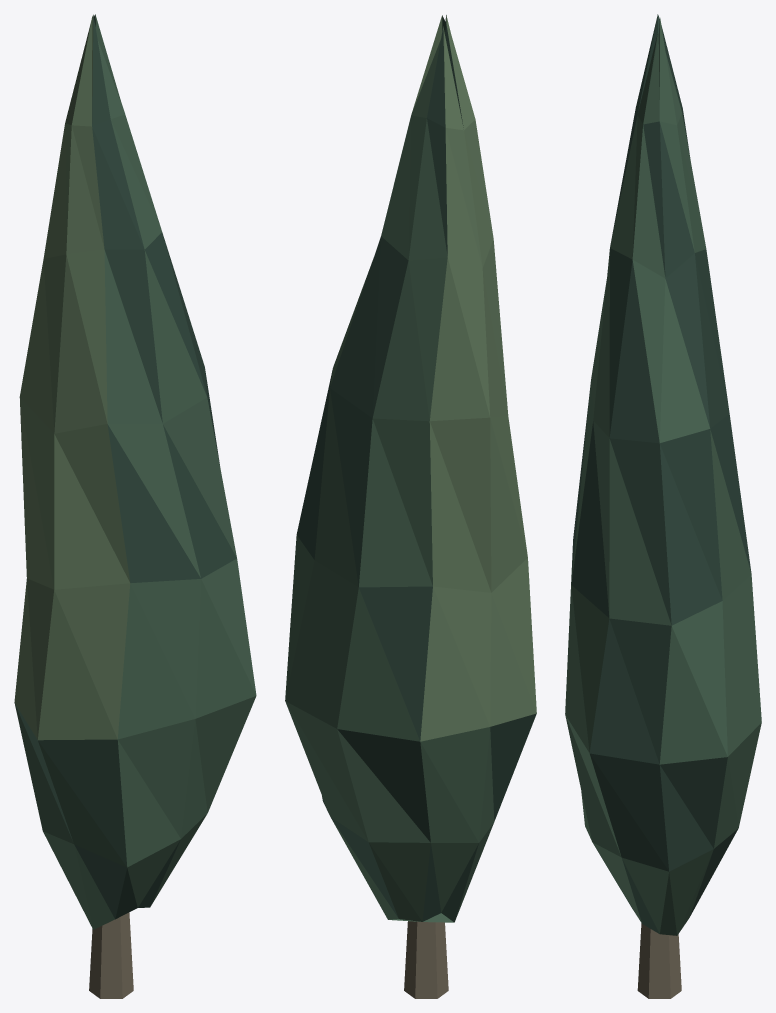
Rendered from citadel-cypress-v1.glb.
3 renders of one model, left to right at view 1: azimuth 30°, elevation 25°; view 2: azimuth 150°, elevation 25°; view 3: azimuth 270°, elevation 25°, orthographic.
Visible parts, largest first — view 1: Citadel cypress; view 2: Citadel cypress; view 3: Citadel cypress.
Part boxes in pixels (<box>): Citadel cypress: <box>14,14,256,998</box>; Citadel cypress: <box>285,15,536,998</box>; Citadel cypress: <box>565,14,761,998</box>.
Bounding box in the file's own units: 1.58 × 6.77 × 1.25.
